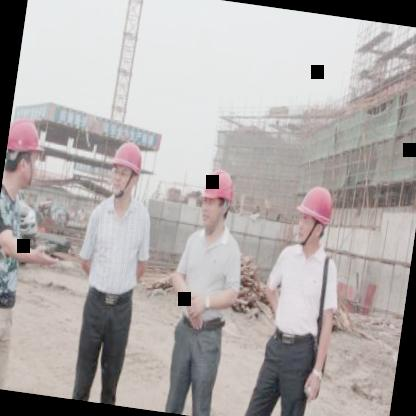helmet: (288, 178, 339, 257), (1, 112, 49, 194), (193, 161, 240, 237), (102, 132, 149, 206)
